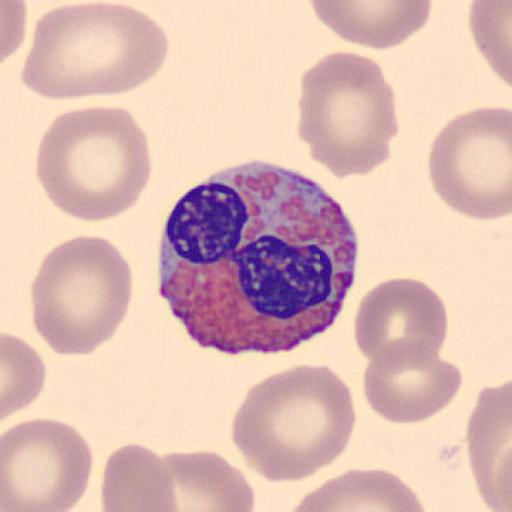RBC: (230, 362, 357, 484), (21, 1, 172, 101), (34, 104, 154, 224), (295, 48, 399, 180), (30, 233, 134, 358), (426, 103, 512, 222), (353, 276, 449, 374), (360, 334, 463, 425), (1, 416, 94, 512), (150, 448, 256, 512), (286, 467, 429, 512), (308, 0, 434, 51), (466, 378, 512, 512), (100, 441, 180, 512), (1, 330, 47, 420), (469, 0, 511, 90), (0, 0, 28, 65)
WBC: (156, 159, 360, 356)
